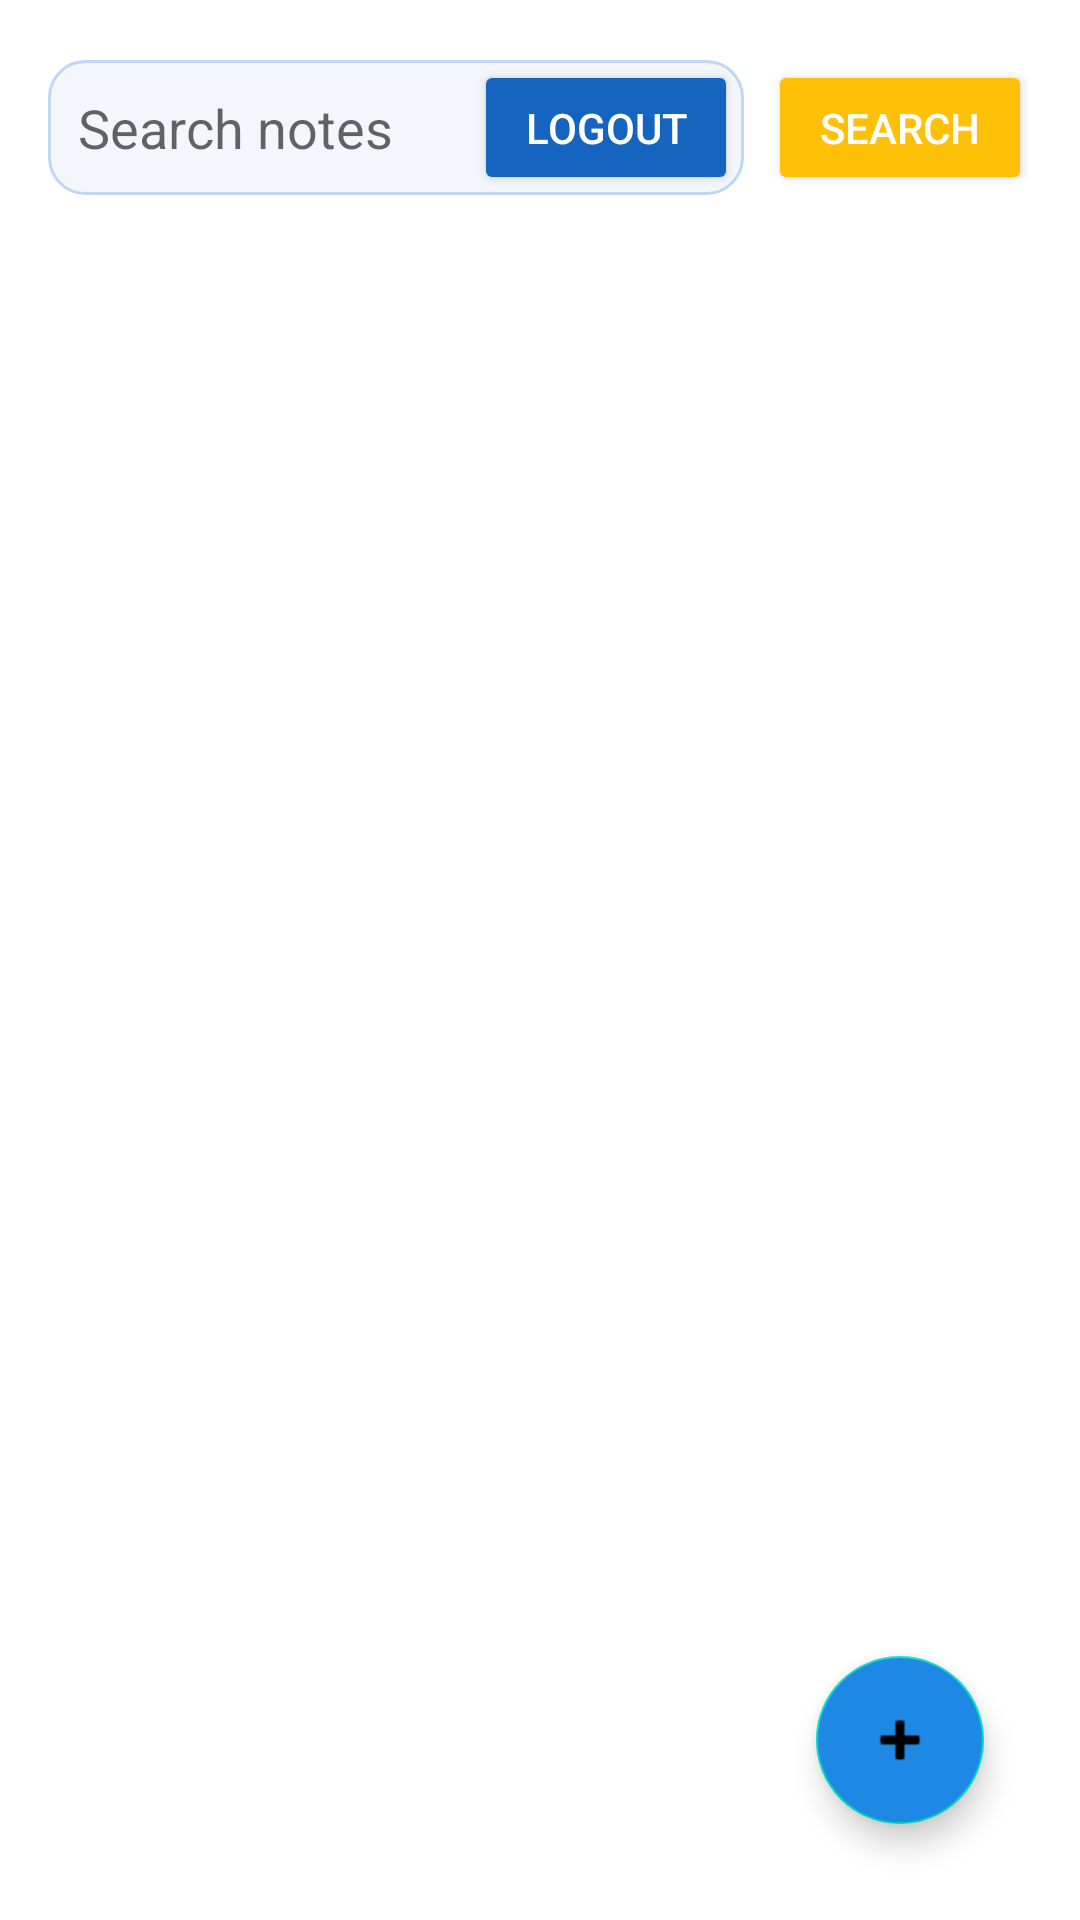

Icons on this 1080px x 1920px Android screen, each with the point to tap as [x,y]:
Add Note: [900,1740]
